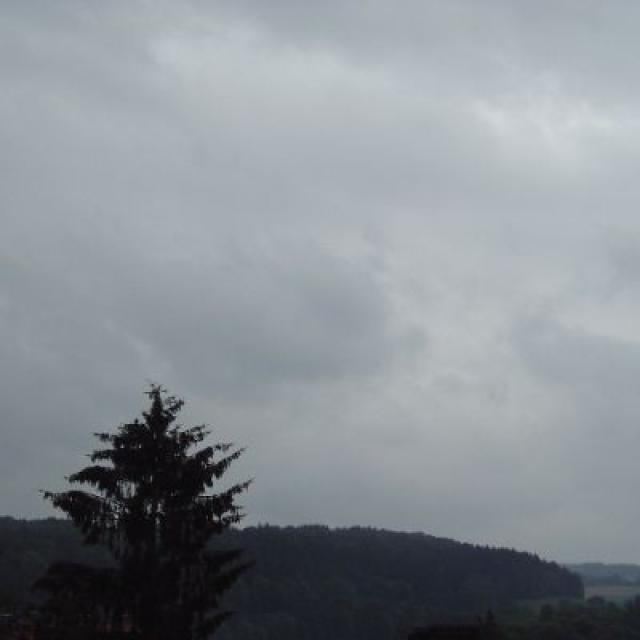nimbostratus: (0, 0, 640, 378)
